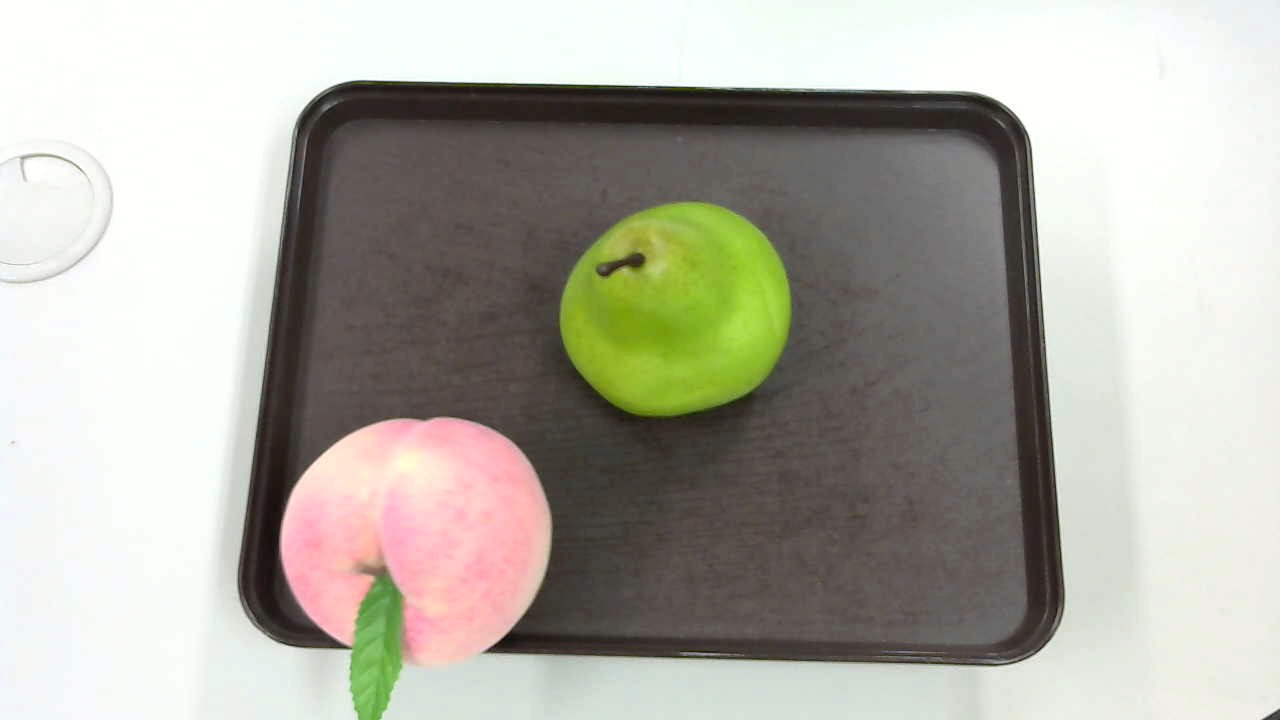green pear: (554, 202, 795, 418)
peach: (277, 418, 555, 720)
